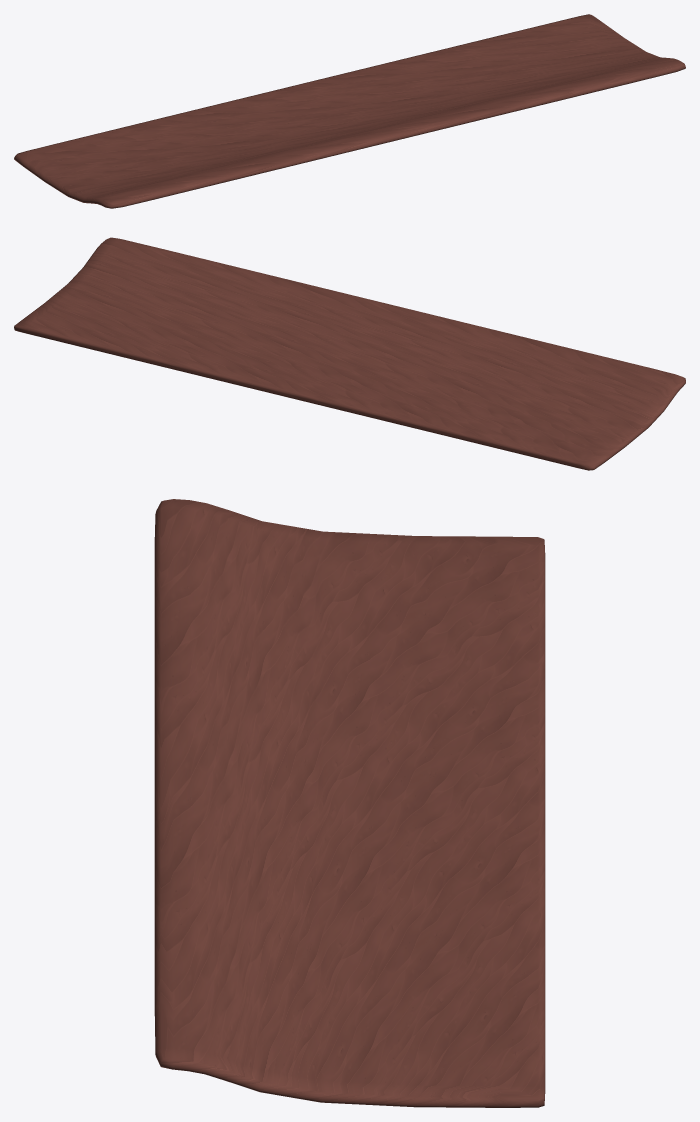
File: Sand_ROOM02_FLOOR.fbx
The picture shows the model from 3 angles, top to bottom: view 1: azimuth 30°, elevation 25°; view 2: azimuth 150°, elevation 25°; view 3: azimuth 270°, elevation 25°; orthographic projection. The views are drawn at different scales.
Visible parts, largest first — view 1: Plane; view 2: Plane; view 3: Plane.
Part boxes in pixels (bbox=[...]): Plane: bbox=[14, 14, 685, 208]; Plane: bbox=[14, 237, 685, 470]; Plane: bbox=[154, 499, 545, 1107].
Bounding box in the file's own units: 1515 × 61.58 × 441.
Materials: 1 (1 with a texture image).
